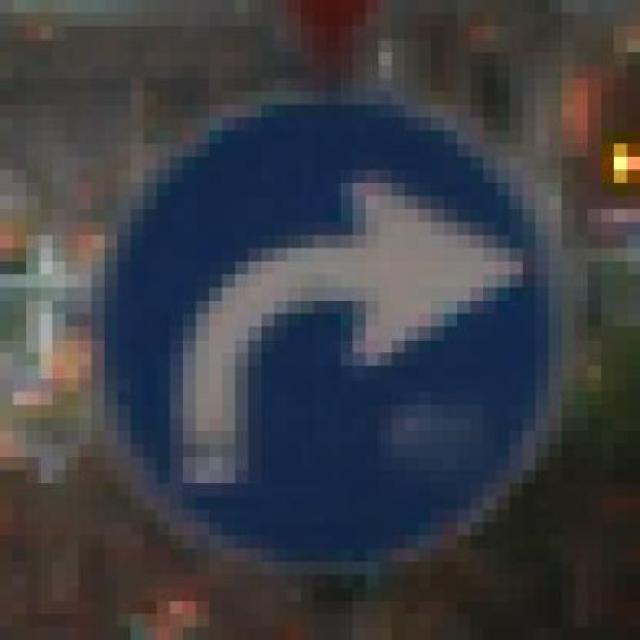Turn right ahead: (78, 78, 574, 588)
